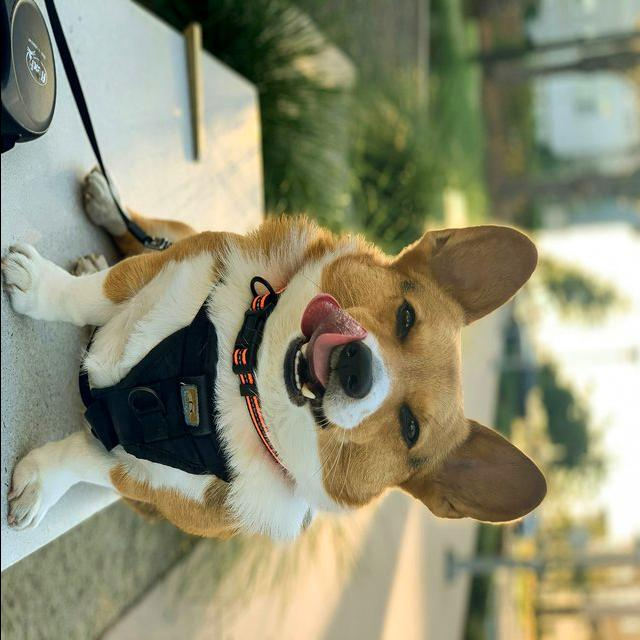corgi: (3, 166, 548, 542)
